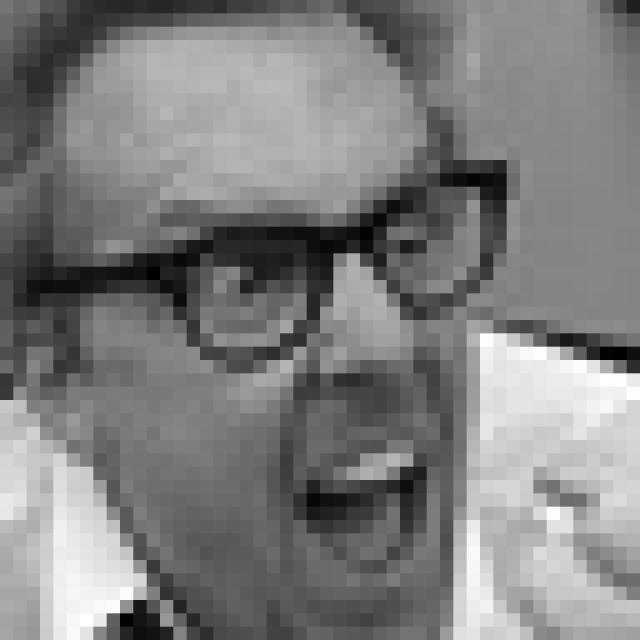angry: (142, 159, 468, 592)
